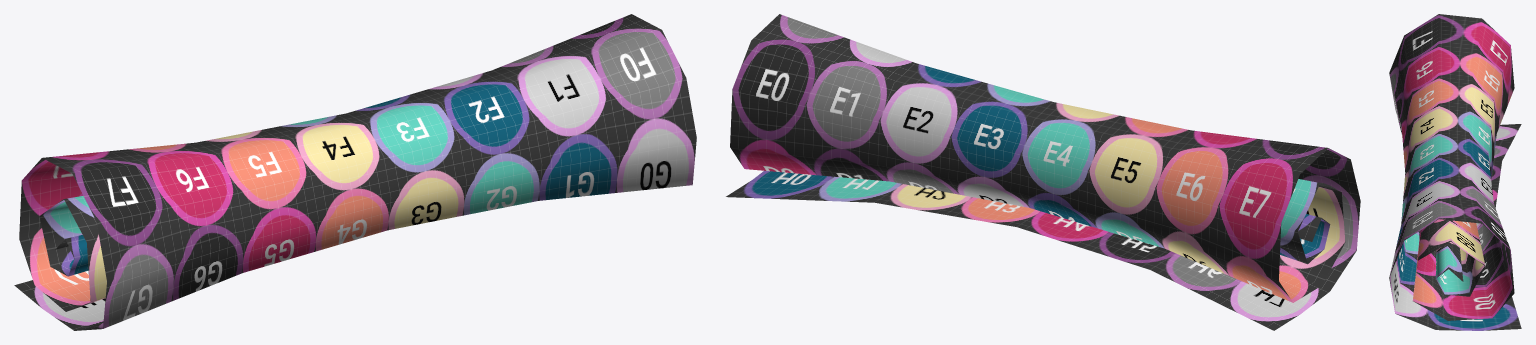
File: SM_Papyrus.fbx
3 views of the same model, side by side, from view 1: azimuth 30°, elevation 25°; view 2: azimuth 150°, elevation 25°; view 3: azimuth 270°, elevation 25° (orthographic). The views are drawn at different scales.
Visible parts, largest first — view 1: SM_Papyrus; view 2: SM_Papyrus; view 3: SM_Papyrus.
Part boxes in pixels (x1,y1,x2,y2): SM_Papyrus: (14,14,696,330); SM_Papyrus: (726,14,1360,330); SM_Papyrus: (1389,14,1521,330).
Bounding box in the file's own units: 45.02 × 11.45 × 12.29.
